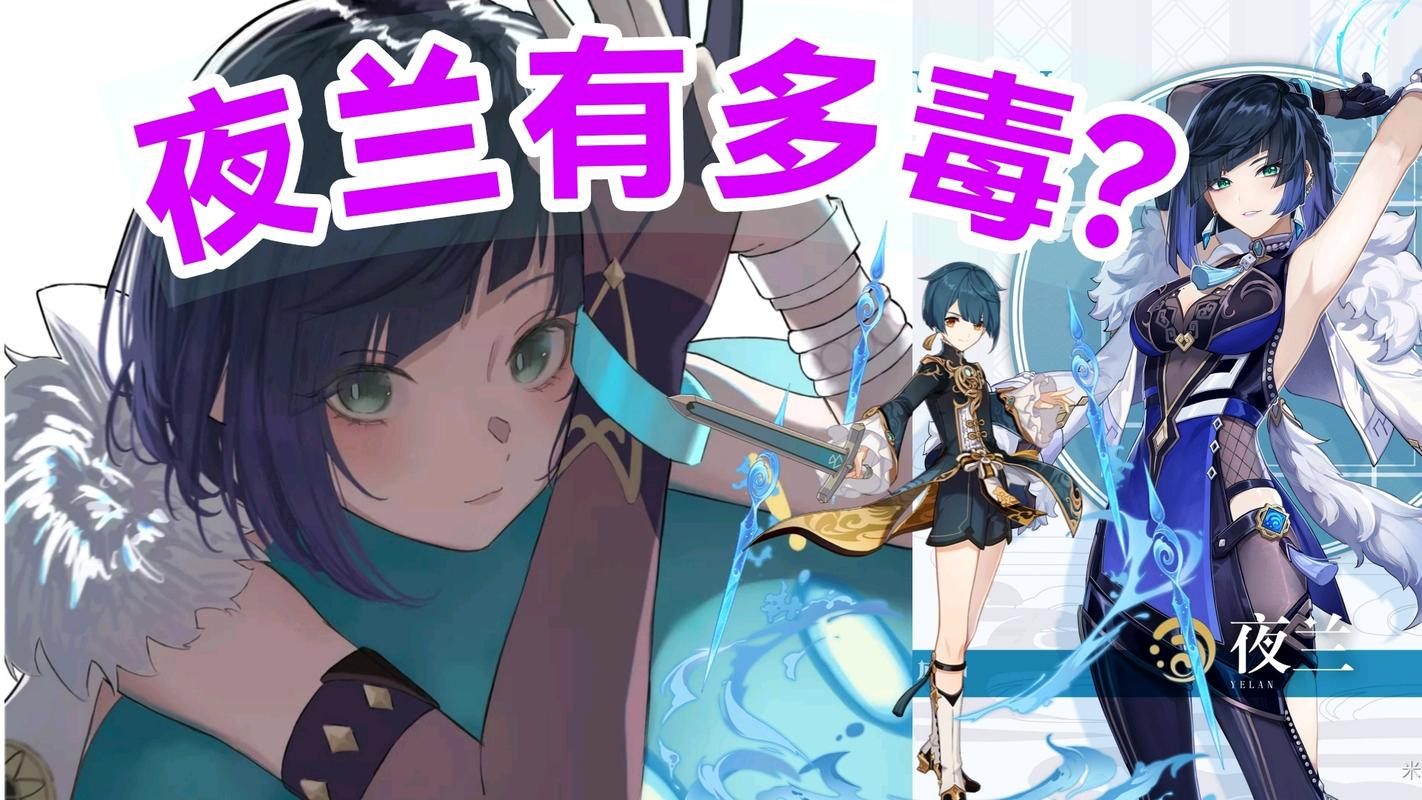夜兰: (1, 3, 913, 800), (1107, 68, 1422, 800)
